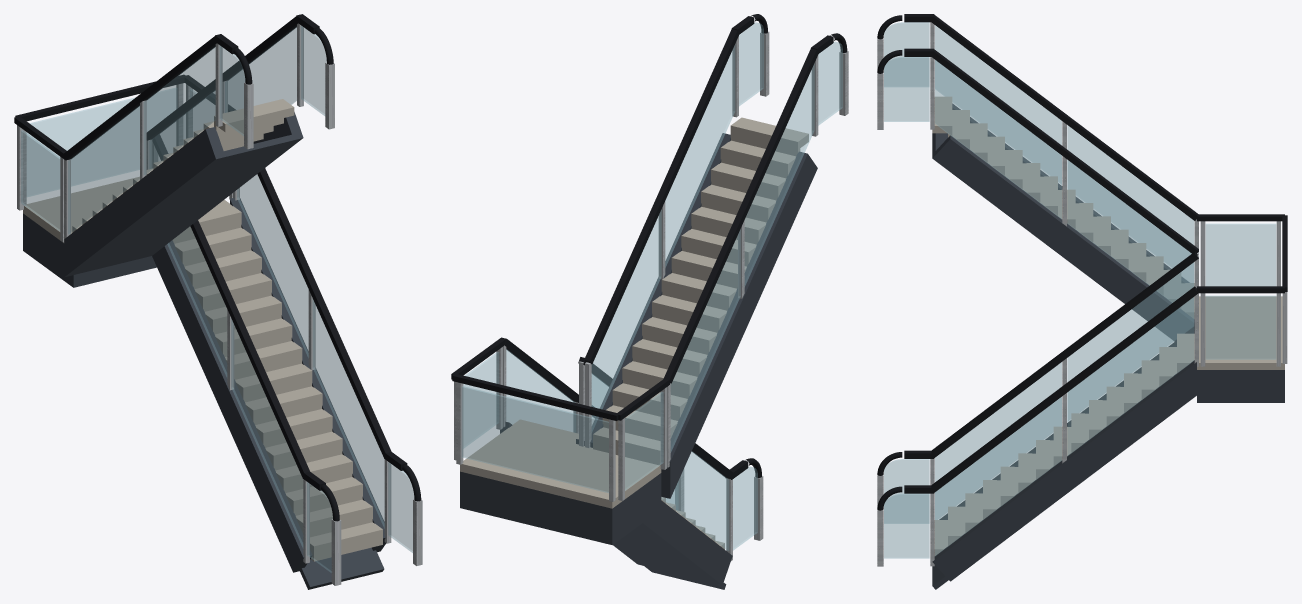
File: stair-left180.glb
The picture shows the model from 3 angles, left to right: view 1: azimuth 30°, elevation 25°; view 2: azimuth 150°, elevation 25°; view 3: azimuth 270°, elevation 25°; orthographic projection. The views are drawn at different scales.
Parts seen in each view (by area): view 1: StairLeft180, stair-stringer (×4), stair-riser (×15), stair-landing, stair-soffit (×2), stair-tread (×11), stair-landing-frame, stair-landing-surface; view 2: StairLeft180, stair-landing, stair-riser (×15), stair-stringer (×3), stair-landing-surface, stair-landing-frame, stair-tread (×7), stair-soffit; view 3: StairLeft180, stair-stringer (×3), stair-landing, stair-landing-surface, stair-landing-frame, stair-tread (×2).
Boxes of the visible parts, box(x1,y1,x2,y2) form: StairLeft180: box(63, 14, 422, 585); stair-stringer (×4): box(64, 112, 386, 572); stair-riser (×15): box(172, 211, 382, 561); stair-landing: box(14, 74, 235, 242); stair-soffit (×2): box(74, 134, 384, 589); stair-tread (×11): box(174, 100, 371, 528); stair-landing-frame: box(23, 213, 156, 287); stair-landing-surface: box(23, 176, 229, 242); StairLeft180: box(501, 14, 848, 560); stair-landing: box(451, 338, 669, 501); stair-riser (×15): box(593, 124, 800, 465); stair-stringer (×3): box(576, 133, 817, 584); stair-landing-surface: box(460, 427, 661, 508); stair-landing-frame: box(460, 471, 661, 544); stair-tread (×7): box(510, 117, 808, 443); stair-soffit: box(615, 525, 726, 589); StairLeft180: box(877, 14, 1198, 566); stair-stringer (×3): box(932, 135, 1196, 581); stair-landing: box(1197, 214, 1287, 366); stair-landing-surface: box(1197, 296, 1284, 369); stair-landing-frame: box(1197, 370, 1284, 402); stair-tread (×2): box(932, 96, 1038, 199).
Size of the model in its own units: 2 by 6.31 by 4.65.
5 materials, 1 textured.
